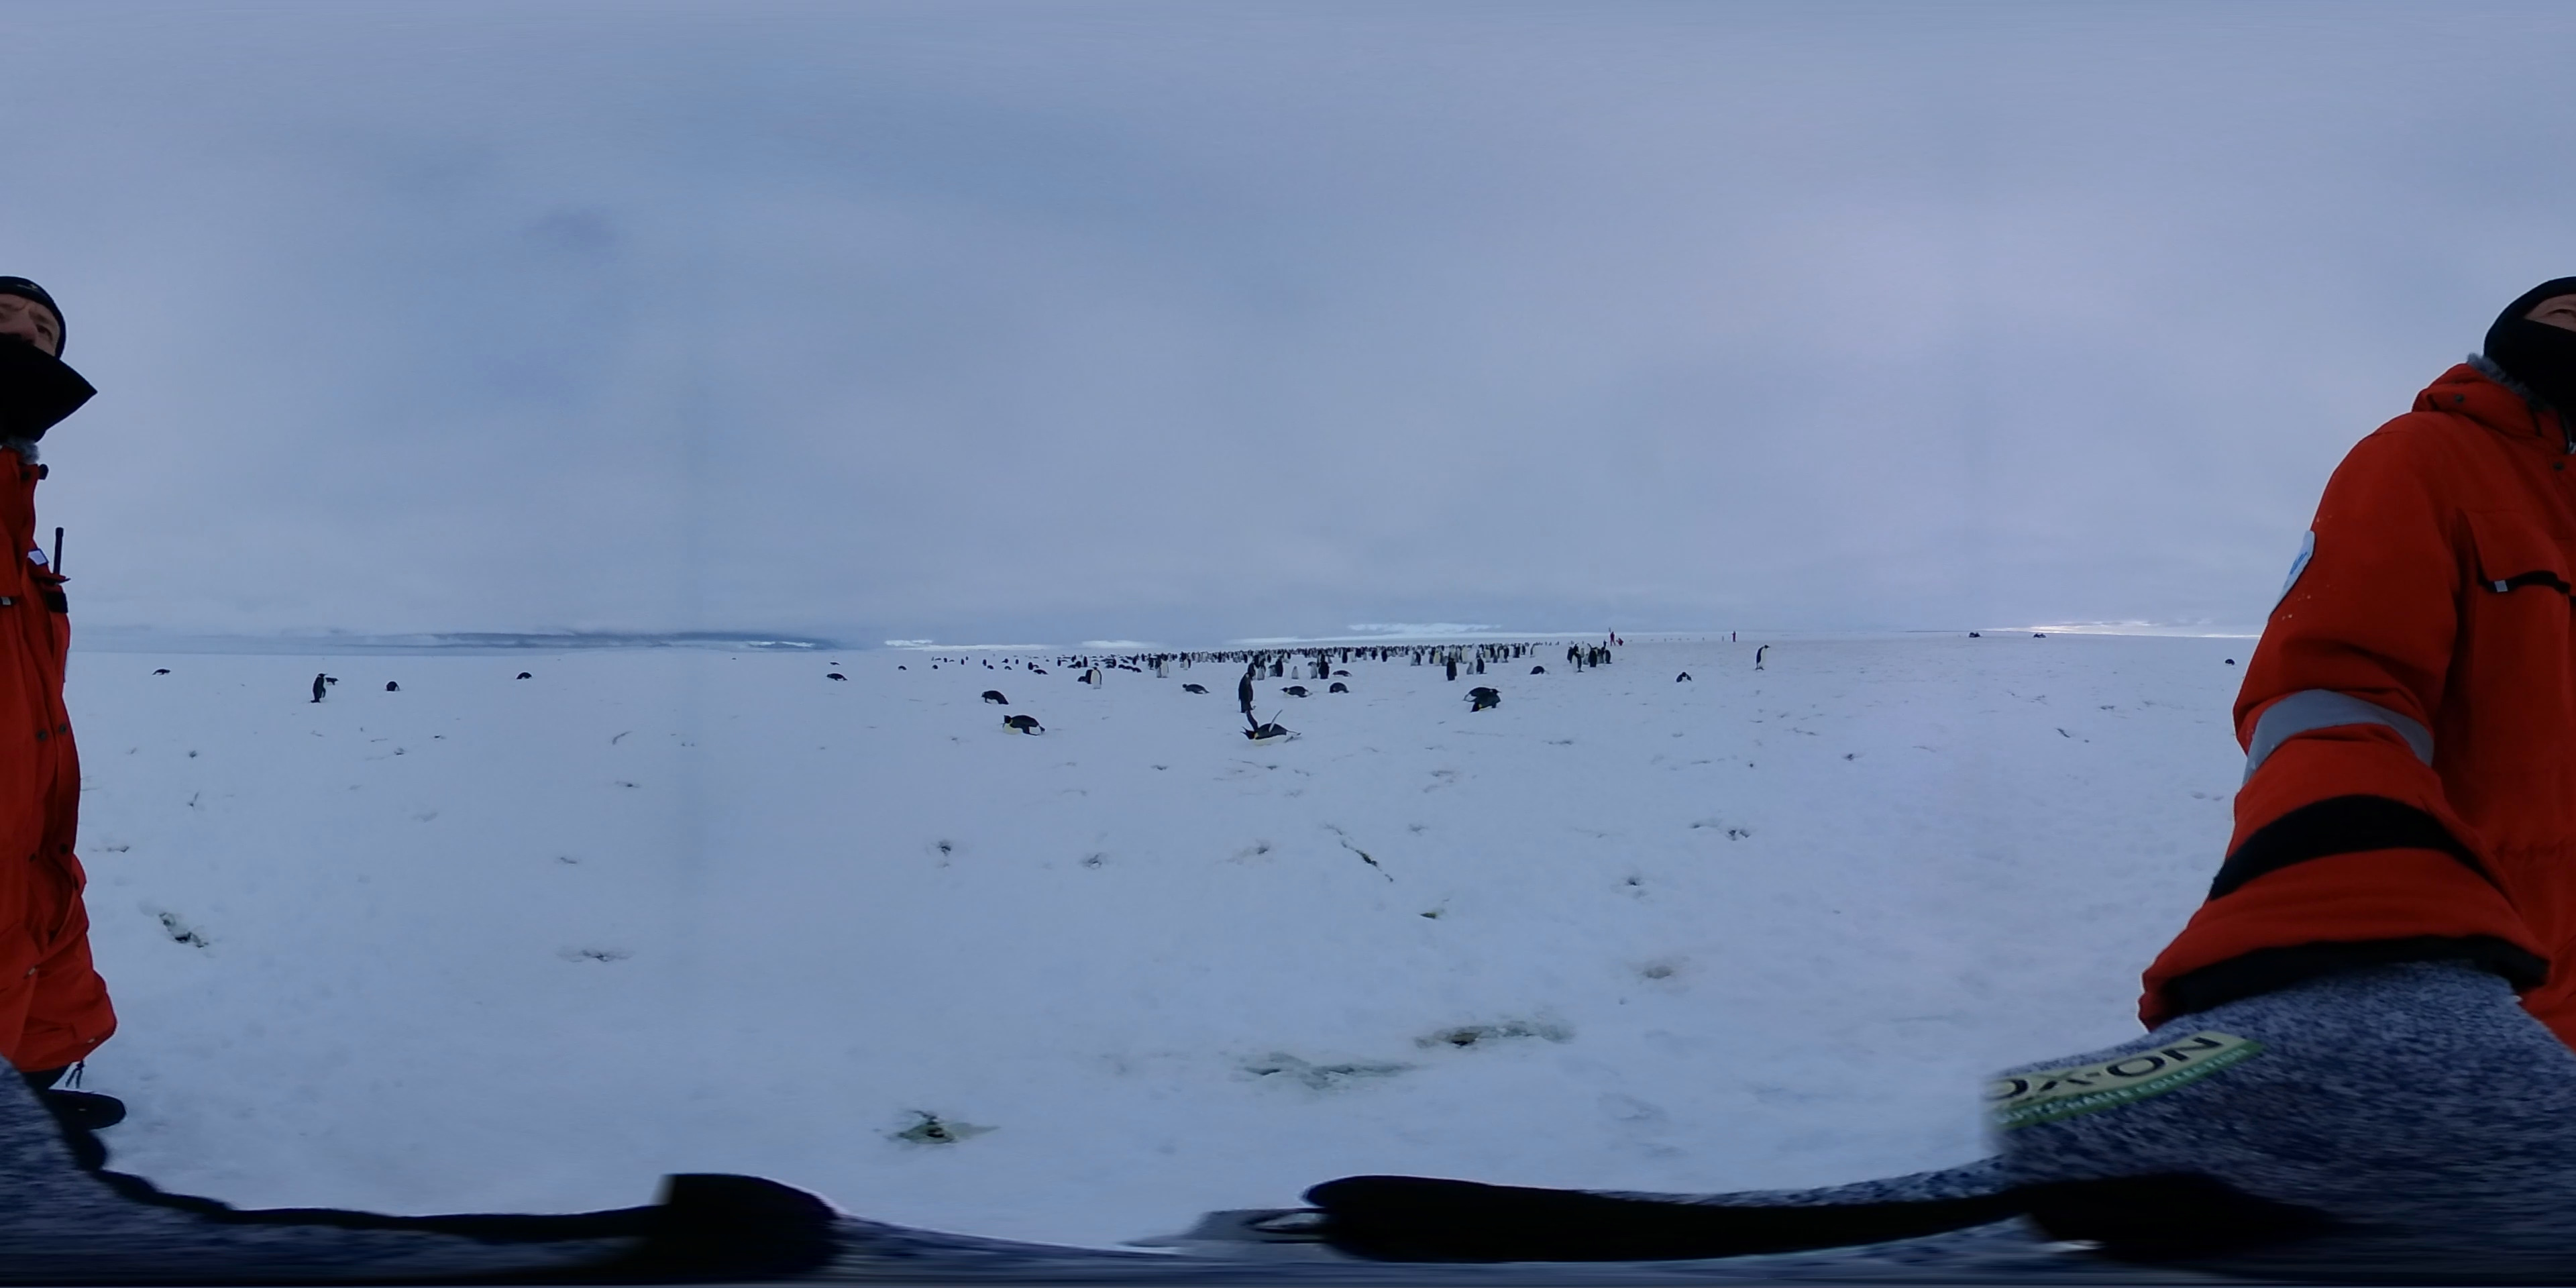adult_standing_penguin: (1235, 672, 1255, 713), (310, 670, 329, 705), (1753, 642, 1771, 670), (1088, 667, 1104, 692), (1569, 651, 1584, 674)
adult_toboggan_penguin: (1239, 713, 1303, 744), (1000, 713, 1046, 738), (1469, 692, 1502, 715), (976, 688, 1012, 706), (1462, 685, 1502, 700), (1280, 683, 1311, 700), (1181, 683, 1212, 697), (823, 670, 849, 683), (514, 669, 537, 683), (383, 678, 402, 693), (1329, 683, 1350, 697), (149, 667, 172, 677), (322, 677, 342, 688), (1331, 670, 1354, 680), (1526, 665, 1548, 675), (1674, 672, 1692, 683), (2223, 657, 2238, 665)
juvenile_penguin: (1290, 665, 1301, 678)
researcher: (2167, 240, 2576, 1288), (0, 251, 105, 1288)
